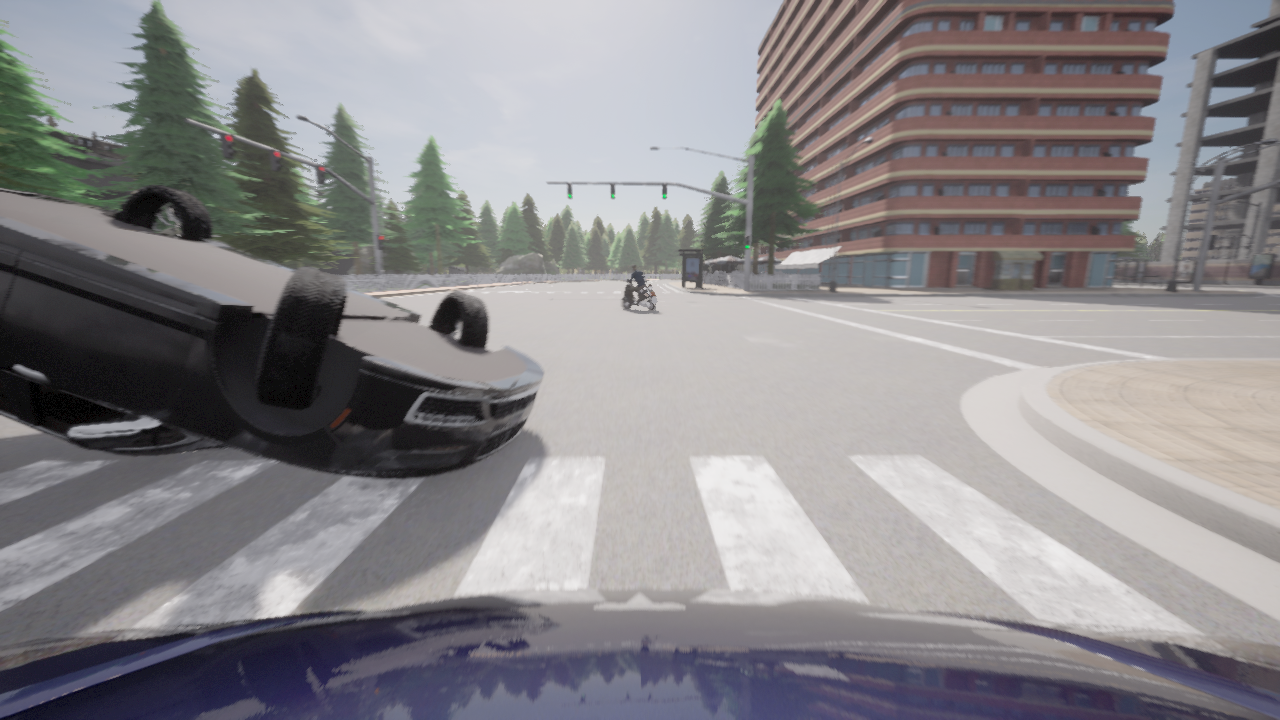cyclist: (0, 588, 1279, 719), (0, 185, 544, 478), (621, 270, 656, 310)
